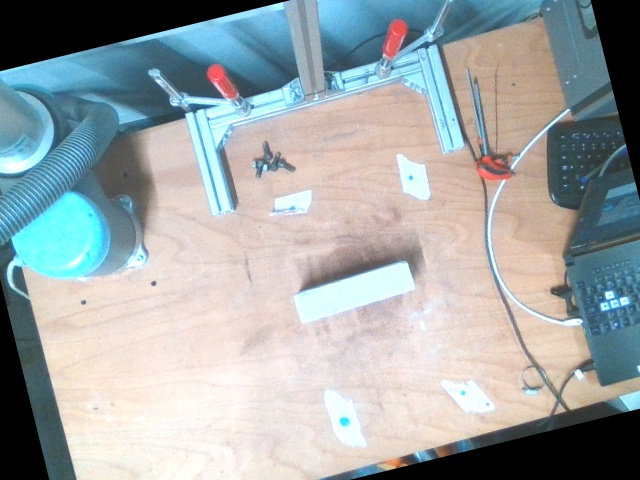brick-side: (294, 260, 415, 325)
